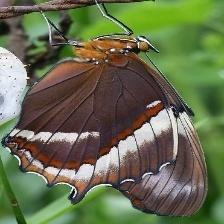butterfly: (3, 35, 207, 216)
